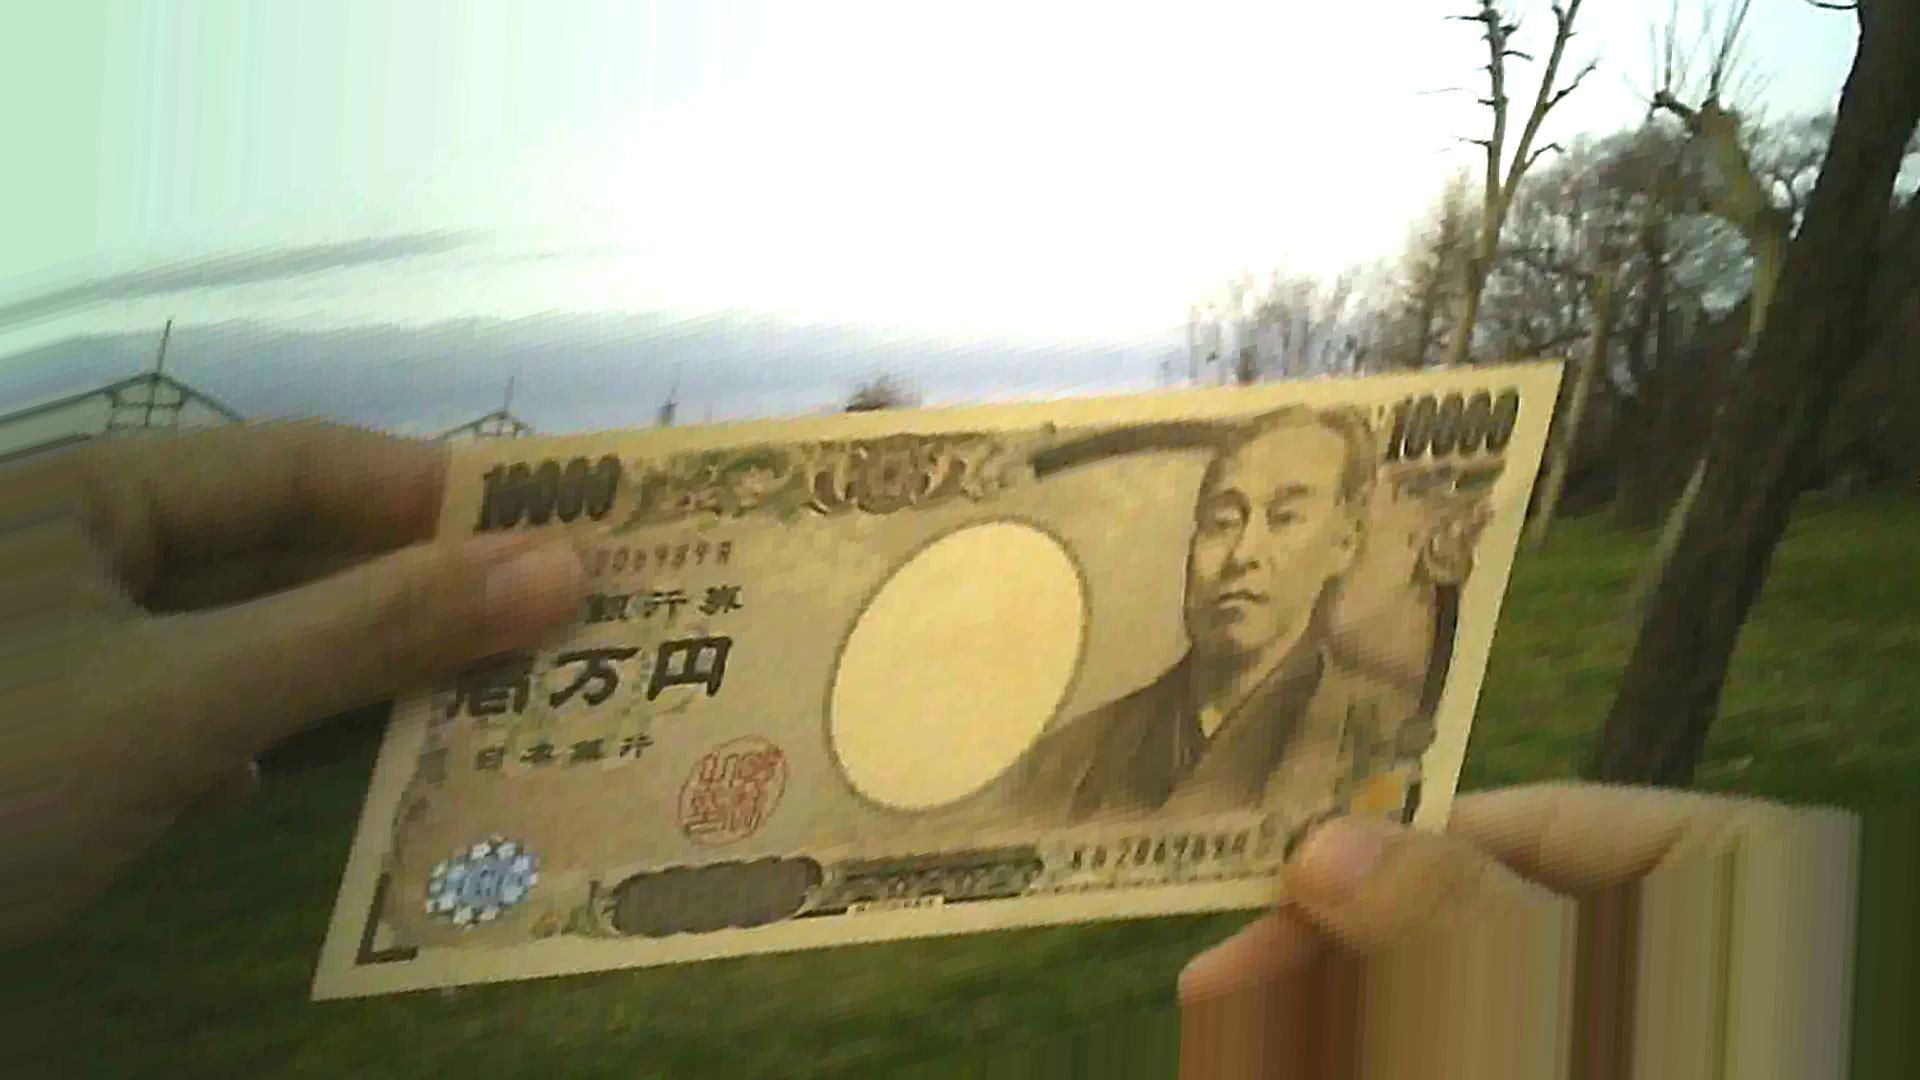10,000 Yen: (375, 351, 1551, 952)
